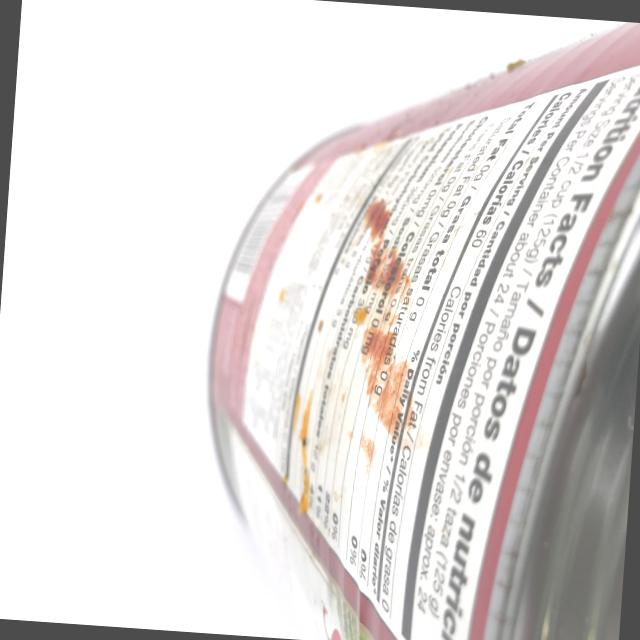Metal: (183, 0, 640, 640)
